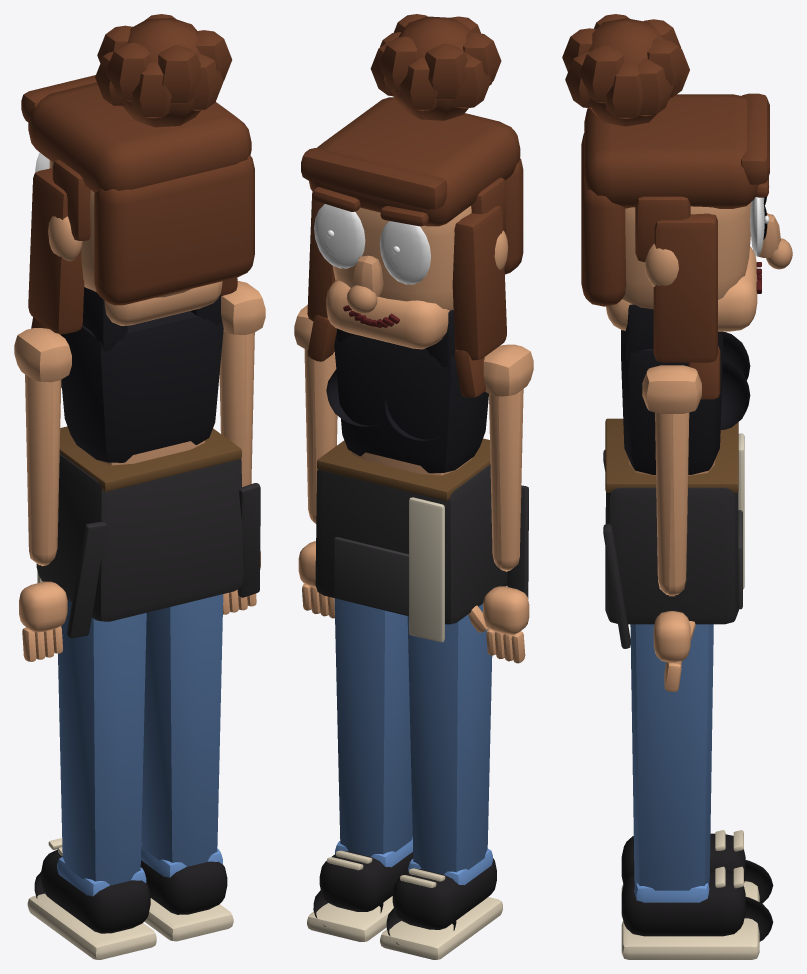
File: bartender.glb
The picture shows the model from 3 angles, left to right: view 1: azimuth 30°, elevation 25°; view 2: azimuth 150°, elevation 25°; view 3: azimuth 270°, elevation 25°; orthographic projection. The views are drawn at different scales.
Visible parts, largest first — view 1: hair_head_hair_15, rig, legL, legR, torso, hairtop_head_hair_15, armL, armR, head; view 2: hair_head_hair_15, rig, legL, legR, head, torso, hairtop_head_hair_15, armL, armR; view 3: legR, hair_head_hair_15, rig, hairtop_head_hair_15, armR, head, torso, legL.
Boxes of the visible parts, box(x1,y1,x2,y2) form: hair_head_hair_15: box(21, 14, 254, 334); rig: box(36, 426, 260, 637); legL: box(27, 599, 156, 959); legR: box(140, 594, 233, 941); torso: box(61, 287, 223, 465); hairtop_head_hair_15: box(28, 82, 251, 192); armL: box(14, 328, 71, 661); armR: box(219, 281, 265, 614); head: box(35, 152, 222, 325); hair_head_hair_15: box(301, 14, 523, 397); rig: box(315, 438, 528, 642); legL: box(380, 603, 502, 959); legR: box(307, 598, 413, 941); head: box(312, 187, 508, 349); torso: box(326, 310, 488, 475); hairtop_head_hair_15: box(309, 97, 520, 226); armL: box(468, 344, 533, 663); armR: box(294, 305, 337, 618); legR: box(621, 624, 773, 959); hair_head_hair_15: box(562, 14, 769, 399); rig: box(603, 418, 744, 648); hairtop_head_hair_15: box(584, 94, 758, 208); armR: box(642, 365, 701, 691); head: box(606, 176, 792, 331); torso: box(621, 304, 750, 475); legL: box(621, 830, 773, 918).
Size of the model in its own units: 0.577 by 2.17 by 0.5017.
